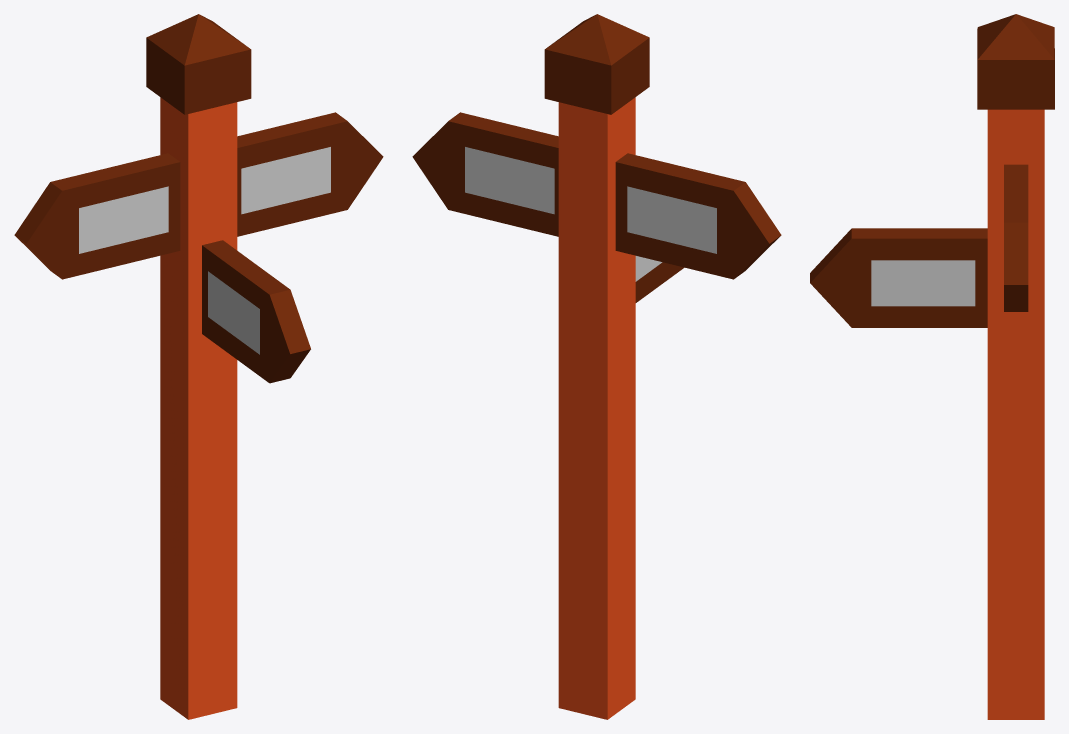
File: Direction_pole_3.FBX
The picture shows the model from 3 angles, left to right: view 1: azimuth 30°, elevation 25°; view 2: azimuth 150°, elevation 25°; view 3: azimuth 270°, elevation 25°; orthographic projection.
Visible parts, largest first — view 1: Direction_pole_3; view 2: Direction_pole_3; view 3: Direction_pole_3.
Boxes of the visible parts, <box> form: Direction_pole_3: <box>14,14,383,719</box>; Direction_pole_3: <box>412,14,781,719</box>; Direction_pole_3: <box>810,14,1054,719</box>.
Bounding box in the file's own units: 1.01 × 1.86 × 0.5955.
Materials: 1 (1 with a texture image).
